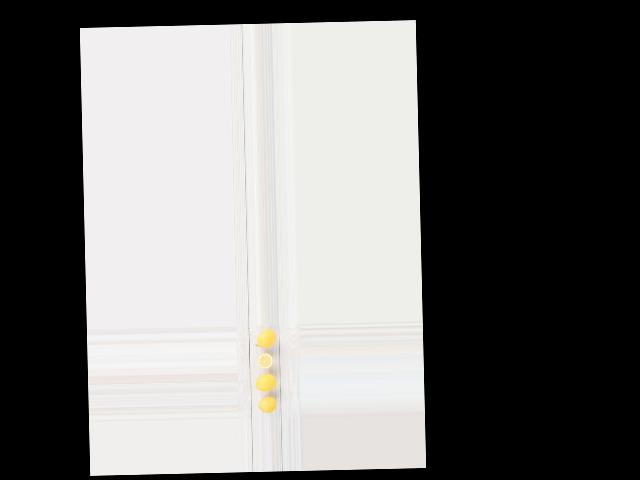lemon: (253, 329, 276, 347)
